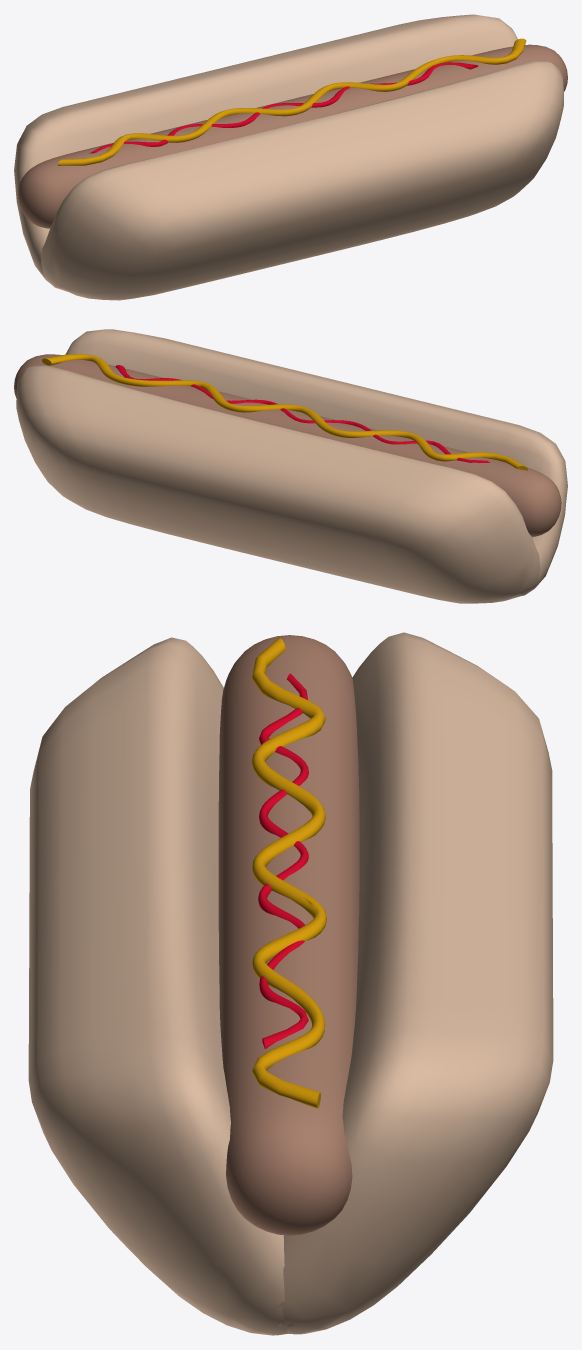
Rendered from Hotdog.fbx.
3 renders of one model, top to bottom at view 1: azimuth 30°, elevation 25°; view 2: azimuth 150°, elevation 25°; view 3: azimuth 270°, elevation 25°, orthographic. The views are drawn at different scales.
Visible parts, largest first — view 1: Cube.001, Cube, NurbsPath, NurbsPath.001; view 2: Cube.001, Cube, NurbsPath, NurbsPath.001; view 3: Cube.001, Cube, NurbsPath, NurbsPath.001.
Boxes of the visible parts, <box> form: Cube.001: <box>14,14,563,300</box>; Cube: <box>18,44,567,228</box>; NurbsPath: <box>57,38,526,165</box>; NurbsPath.001: <box>89,62,478,153</box>; Cube.001: <box>16,329,567,603</box>; Cube: <box>14,354,561,537</box>; NurbsPath: <box>42,353,527,470</box>; NurbsPath.001: <box>115,365,489,462</box>; Cube.001: <box>28,632,553,1335</box>; Cube: <box>218,635,359,1235</box>; NurbsPath: <box>252,637,326,1108</box>; NurbsPath.001: <box>258,673,308,1048</box>.
Bounding box in the file's own units: 856 × 223 × 362.
